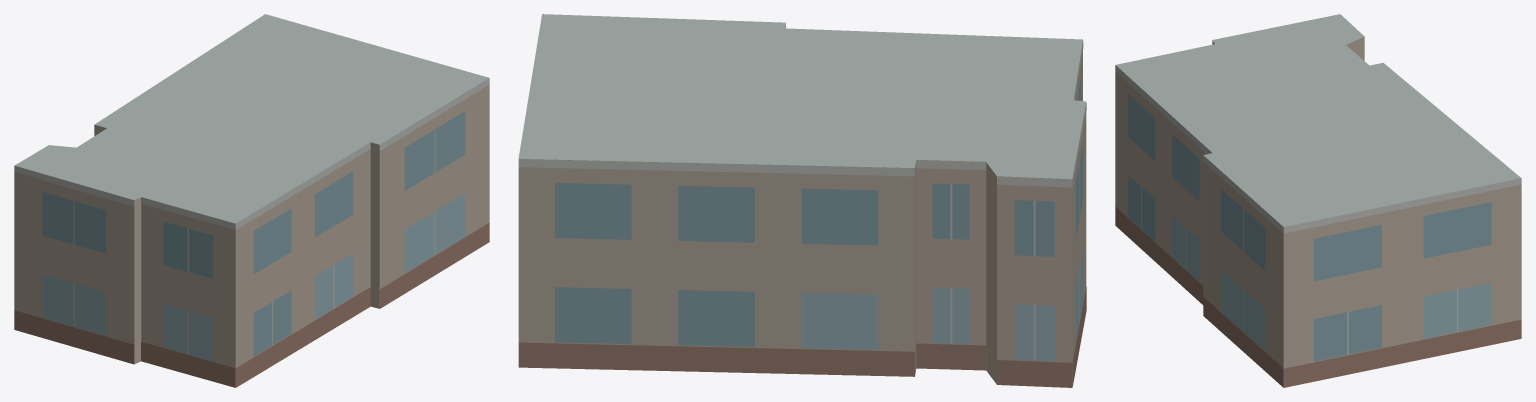
The model's file is survey-upis-33023724.glb.
The picture shows the model from 3 angles, left to right: view 1: azimuth 30°, elevation 25°; view 2: azimuth 150°, elevation 25°; view 3: azimuth 270°, elevation 25°; orthographic projection. The views are drawn at different scales.
Parts seen in each view (by area): view 1: survey-upis-33023724.tmp; view 2: survey-upis-33023724.tmp; view 3: survey-upis-33023724.tmp.
Boxes of the visible parts, x1,y1,x2,y2 form: survey-upis-33023724.tmp: (14, 14, 489, 387); survey-upis-33023724.tmp: (518, 14, 1086, 387); survey-upis-33023724.tmp: (1115, 14, 1521, 387).
Bounding box in the file's own units: 17.36 × 6.1 × 13.98.
